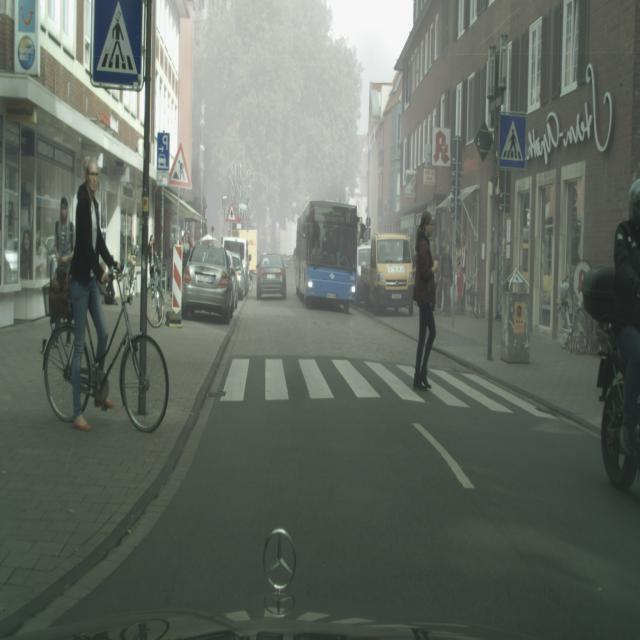bus: (582, 263, 640, 491)
car: (42, 262, 169, 432), (147, 258, 165, 327)
motorcycle: (294, 199, 358, 312)
person: (68, 156, 122, 429), (614, 176, 640, 458), (412, 211, 438, 391), (53, 196, 75, 293), (440, 243, 453, 314)
rider: (356, 233, 415, 316)
truck: (181, 240, 237, 323), (257, 253, 287, 301), (226, 250, 247, 300)
